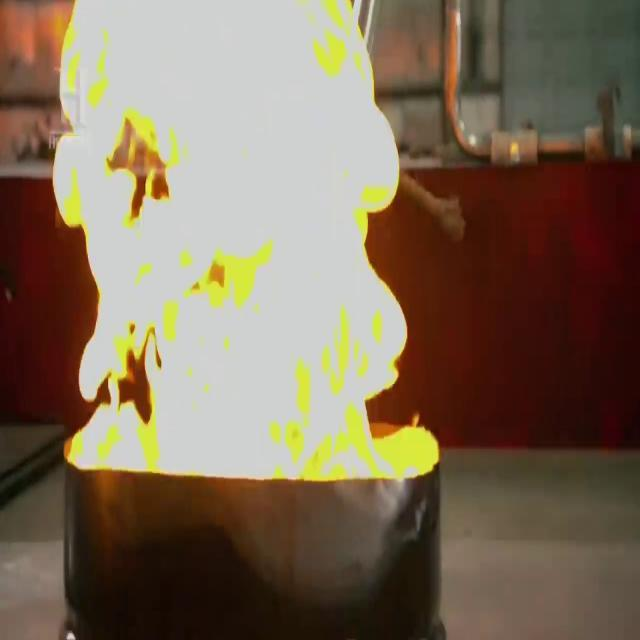Fire: (59, 8, 431, 468)
